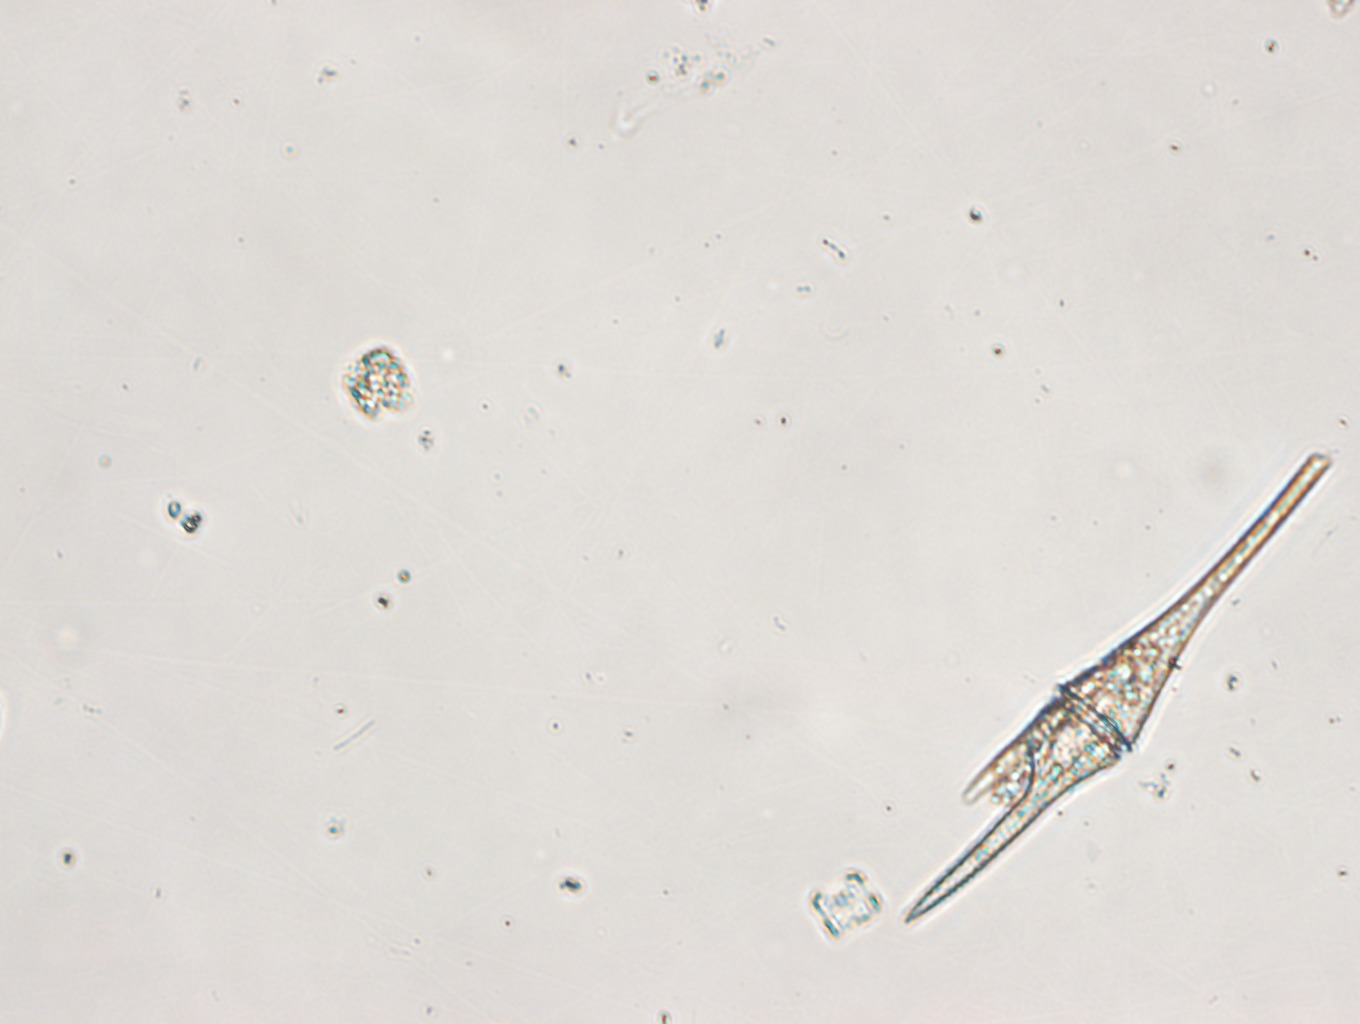ceratium furca: (902, 445, 1334, 927)
